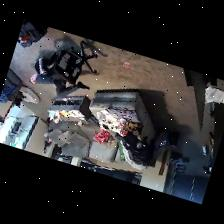person: (30, 57, 89, 97)
